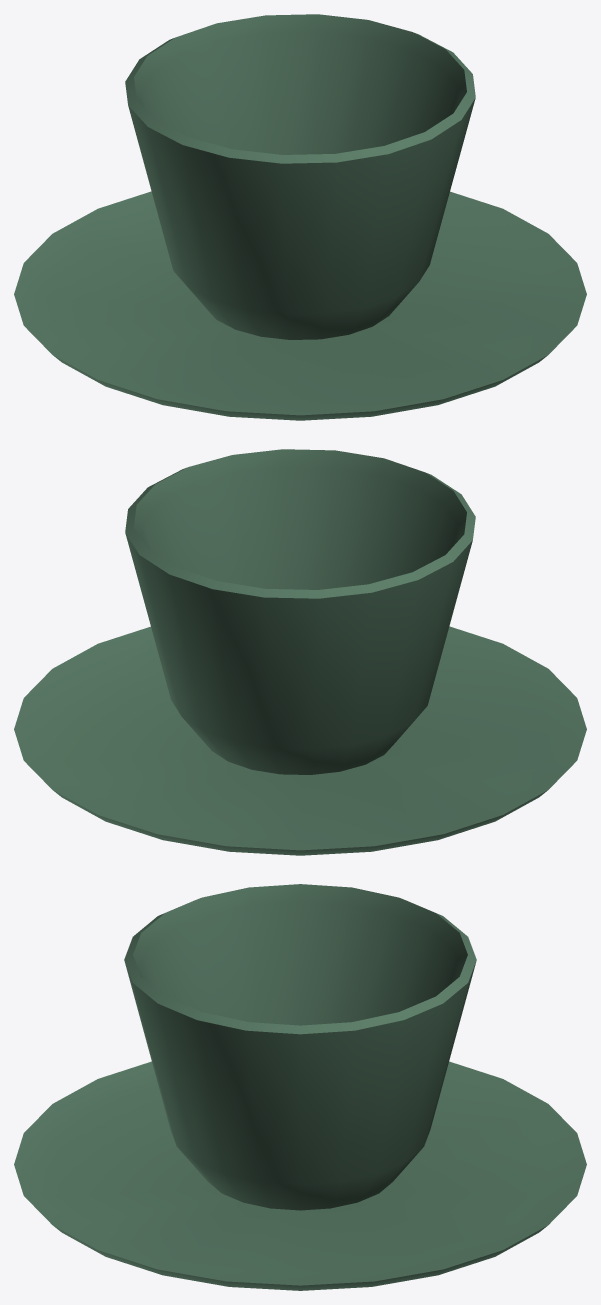
The model's file is tea-cup-celadon.glb.
3 views of the same model, one above another, from view 1: azimuth 30°, elevation 25°; view 2: azimuth 150°, elevation 25°; view 3: azimuth 270°, elevation 25° (orthographic).
Parts seen in each view (by area): view 1: cup__ceramic; view 2: cup__ceramic; view 3: cup__ceramic.
Part boxes in pixels (box(x1,y1,x2,y2)): cup__ceramic: box(14, 14, 586, 420); cup__ceramic: box(14, 449, 586, 855); cup__ceramic: box(14, 884, 586, 1290).
Bounding box in the file's own units: 0.104 × 0.049 × 0.104.
